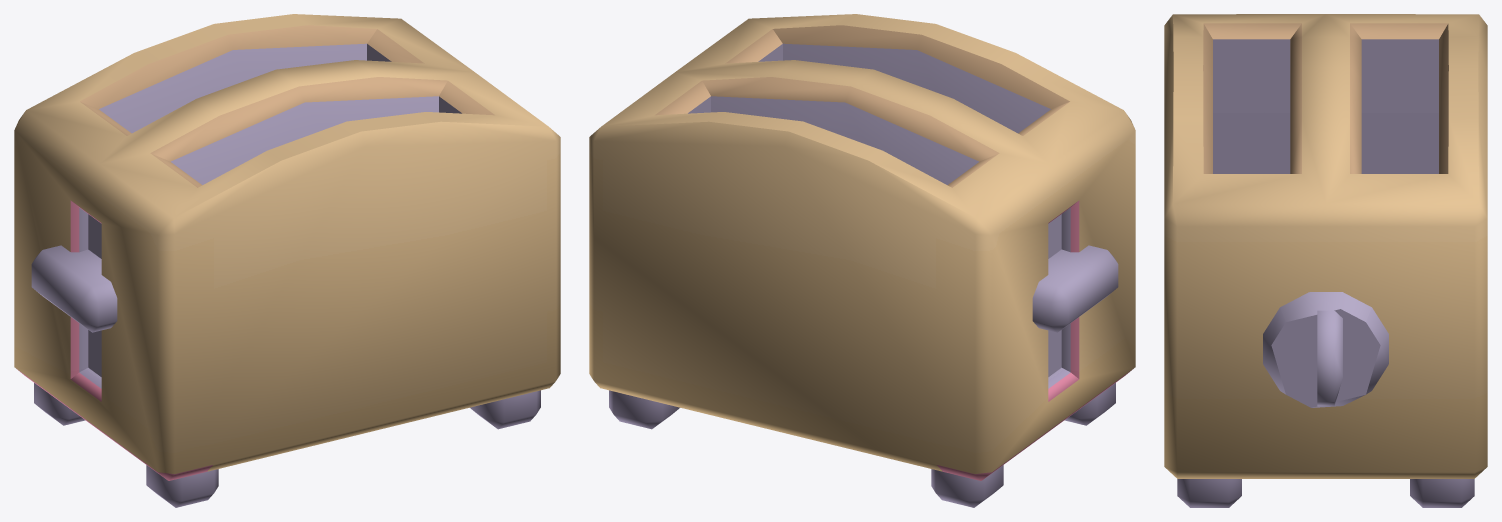
The model's file is kitchen-toaster.glb.
3 renders of one model, left to right at view 1: azimuth 30°, elevation 25°; view 2: azimuth 150°, elevation 25°; view 3: azimuth 270°, elevation 25°, orthographic. The views are drawn at different scales.
Parts seen in each view (by area): view 1: toaster; view 2: toaster; view 3: toaster.
Part boxes in pixels (x1,y1,x2,y2): toaster: [14, 14, 560, 507]; toaster: [589, 14, 1135, 507]; toaster: [1164, 14, 1487, 507].
Size of the model in its own units: 0.9051 by 0.5997 by 0.5.
1 material, 1 textured.
